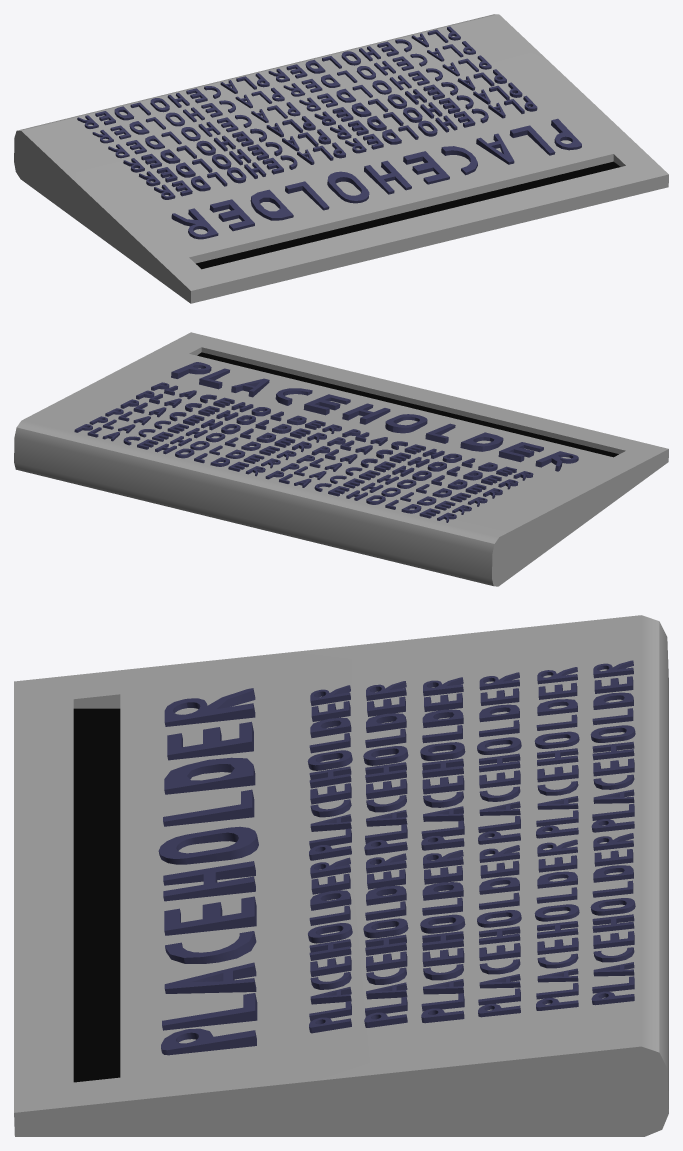
The model's file is paper.fbx.
3 renders of one model, top to bottom at view 1: azimuth 30°, elevation 25°; view 2: azimuth 150°, elevation 25°; view 3: azimuth 270°, elevation 25°, orthographic. The views are drawn at different scales.
Parts seen in each view (by area): view 1: paper; view 2: paper; view 3: paper.
Part boxes in pixels (x1,y1,x2,y2): paper: [14, 14, 668, 303]; paper: [14, 332, 668, 586]; paper: [14, 615, 668, 1136].
Size of the model in its own units: 1.55 by 0.1573 by 0.9919.
